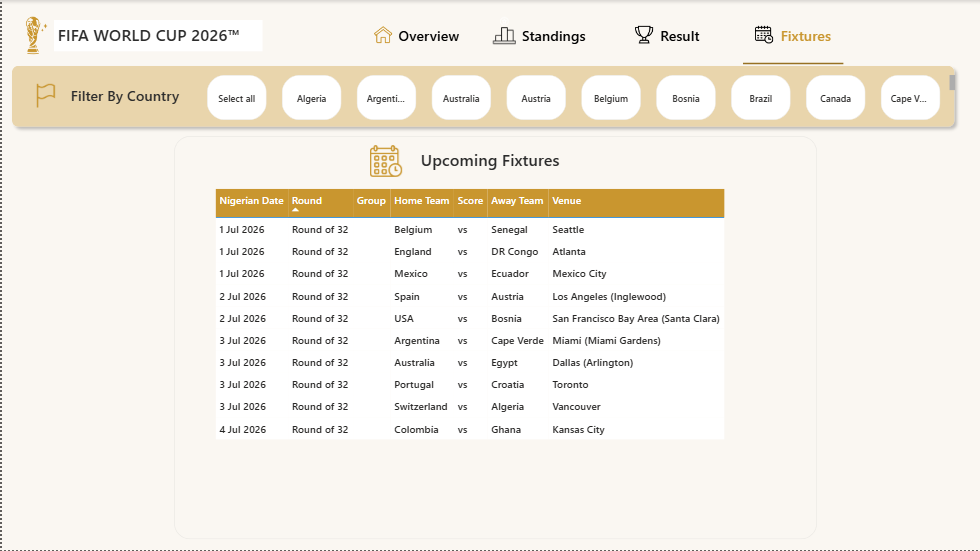

What the dashboard file says about the page in this screenshot:
{"tool":"powerbi","page":{"name":"Page 4","canvas":[1280,720],"ordinal":3},"visuals":[{"type":"image","box":[17.9,15.1,49.5,61.9],"z":0},{"type":"textbox","box":[67.4,26.1,272.5,41.3],"z":1000},{"type":"actionButton","box":[476.1,20.6,164.6,51.4],"z":2000},{"type":"actionButton","box":[640.6,20.6,164.6,51.4],"z":3000},{"type":"actionButton","box":[805.2,20.6,164.6,51.4],"z":4000},{"type":"actionButton","box":[969.8,20.6,164.6,51.4],"z":5000},{"type":"image","box":[828.7,25,23.5,41.1],"z":6000},{"type":"image","box":[986,25,23.5,41.1],"z":7000},{"type":"image","box":[640.6,4.4,35.3,72],"z":8000},{"type":"image","box":[486.4,25,23.5,41.1],"z":9000},{"type":"shape","box":[970,77.2,131.5,12.1],"z":10000},{"type":"textbox","box":[542.8,190.4,208.7,41],"z":13000},{"type":"image","box":[477.6,189.2,49.5,42.2],"z":14000},{"type":"tableEx","fields":{"Values":["Matches.Nigerian Date","Matches.Round","Matches.Group","Matches.Team1","Matches.Score","Matches.Team2","Matches.Venue"]},"box":[273.3,241.9,733.7,441.9],"z":15000},{"type":"shape","box":[225.6,177.9,841.9,527.9],"z":16000},{"type":"shape","box":[3.3,77.7,1251.9,97.6],"z":16001},{"type":"advancedSlicerVisual","fields":{"Values":["Countries.Country"]},"box":[262.5,92.5,990,69],"z":16002},{"type":"textbox","box":[85,107.7,170.8,40],"z":16003},{"type":"image","box":[42.5,105.2,30.8,40.8],"z":16004}]}

Visuals, with their boxes in screenshot pixels (x1, y1, x2, y2), scaled from the page's 1280x720 canvas onto the 980x551 screenshot:
image: [14,12,52,59]
textbox: [52,20,260,52]
actionButton: [365,16,491,55]
actionButton: [490,16,616,55]
actionButton: [616,16,743,55]
actionButton: [743,16,869,55]
image: [634,19,652,51]
image: [755,19,773,51]
image: [490,3,517,58]
image: [372,19,390,51]
shape: [743,59,843,68]
textbox: [416,146,575,177]
image: [366,145,404,177]
tableEx - Matches.Nigerian Date x Matches.Round: [209,185,771,523]
shape: [173,136,817,540]
shape: [3,59,961,134]
advancedSlicerVisual - Countries.Country: [201,71,959,124]
textbox: [65,82,196,113]
image: [33,81,56,112]
